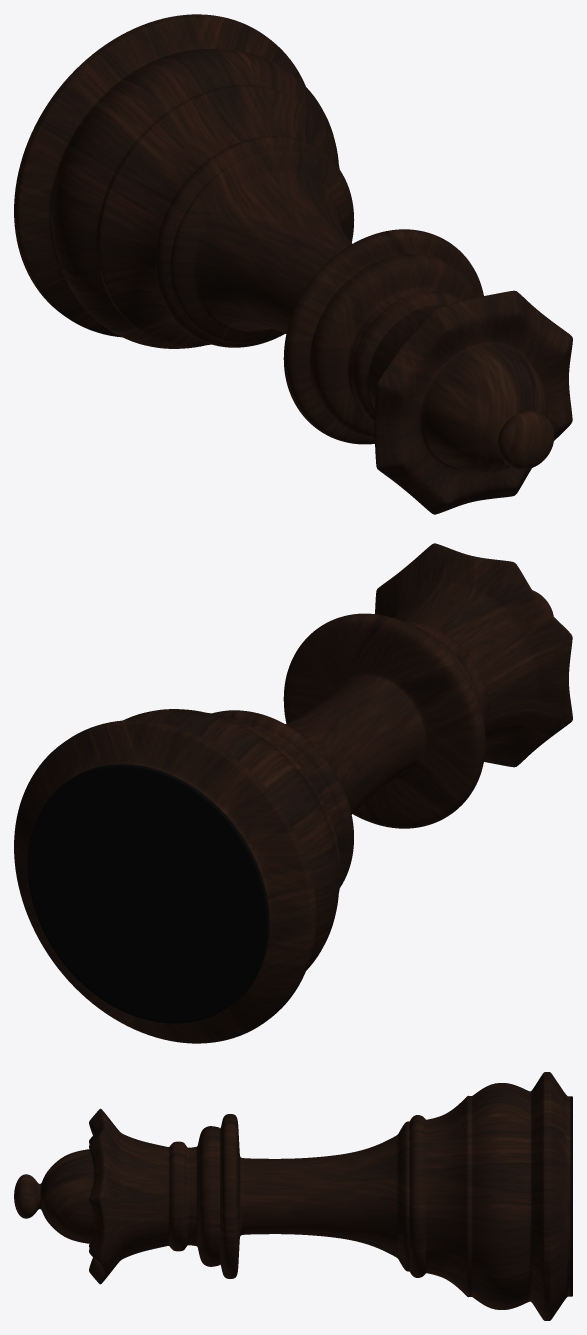
File: queen.glb
The picture shows the model from 3 angles, top to bottom: view 1: azimuth 30°, elevation 25°; view 2: azimuth 150°, elevation 25°; view 3: azimuth 270°, elevation 25°; orthographic projection. The views are drawn at different scales.
Parts seen in each view (by area): view 1: Node1; view 2: Node1; view 3: Node1.
Part boxes in pixels (left/top/right/bottom): Node1: left=14, top=14, right=572, bottom=514; Node1: left=14, top=543, right=572, bottom=1043; Node1: left=14, top=1072, right=572, bottom=1320.
Bounding box in the file's own units: 4.63 × 4.63 × 10.4.
1 material, 1 textured.
